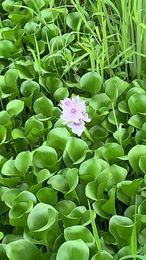water_hyacinth: (0, 67, 146, 260)
